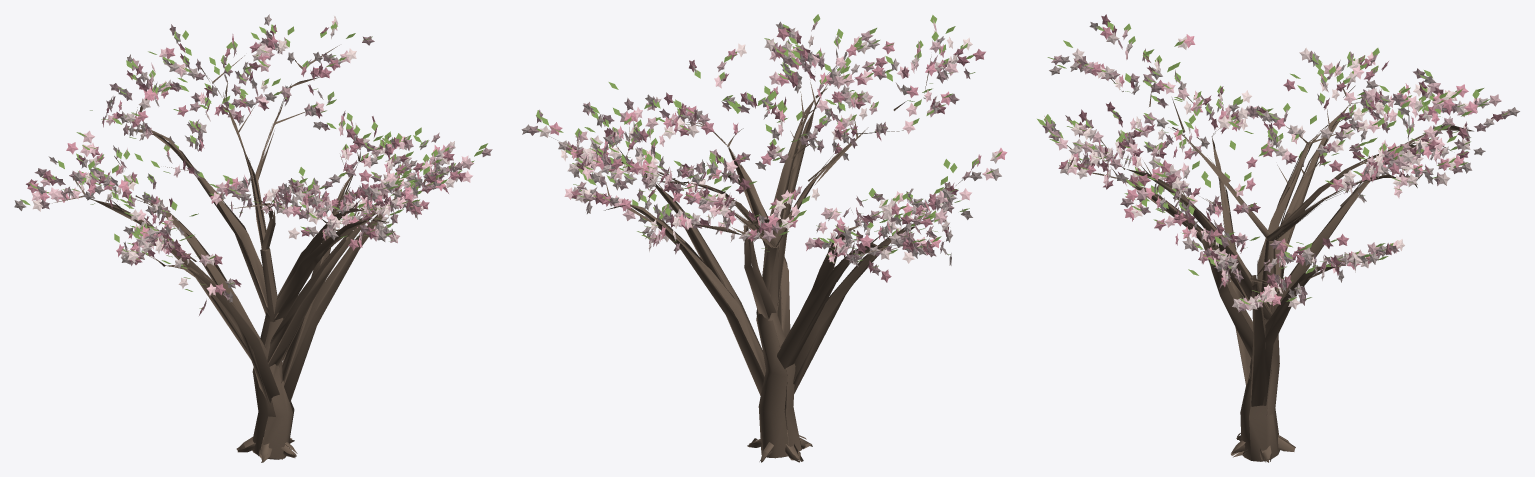
Rendered from kyoto-sakura-near.glb.
3 renders of one model, left to right at view 1: azimuth 30°, elevation 25°; view 2: azimuth 150°, elevation 25°; view 3: azimuth 270°, elevation 25°, orthographic. The views are drawn at different scales.
Parts seen in each view (by area): view 1: CC0 Sakura · near LOD; view 2: CC0 Sakura · near LOD; view 3: CC0 Sakura · near LOD.
Part boxes in pixels (x1,y1,x2,y2): CC0 Sakura · near LOD: [14, 14, 492, 462]; CC0 Sakura · near LOD: [521, 14, 1007, 462]; CC0 Sakura · near LOD: [1037, 14, 1519, 462].
Bounding box in the file's own units: 7.18 × 5.98 × 6.87.
6 materials, 6 textured.
